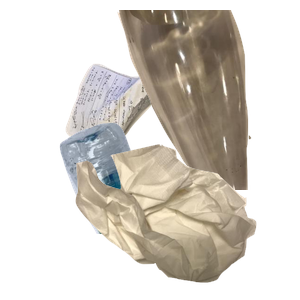glass: (115, 10, 300, 190)
paper: (63, 61, 242, 206)
plastic: (57, 120, 284, 300)
trash: (73, 142, 300, 300)
